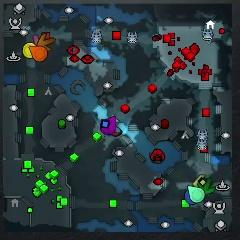p1: (184, 190, 196, 205)
p2: (187, 185, 205, 203)
p3: (100, 116, 116, 135)
p4: (23, 42, 35, 58)
p5: (28, 46, 48, 61)
x1: (33, 35, 39, 44)
x2: (192, 174, 205, 187)
x4: (197, 177, 216, 194)
x5: (38, 34, 55, 50)
